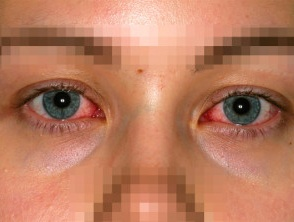SJS-TEN: (26, 0, 286, 43), (0, 150, 89, 222), (201, 163, 294, 222)
